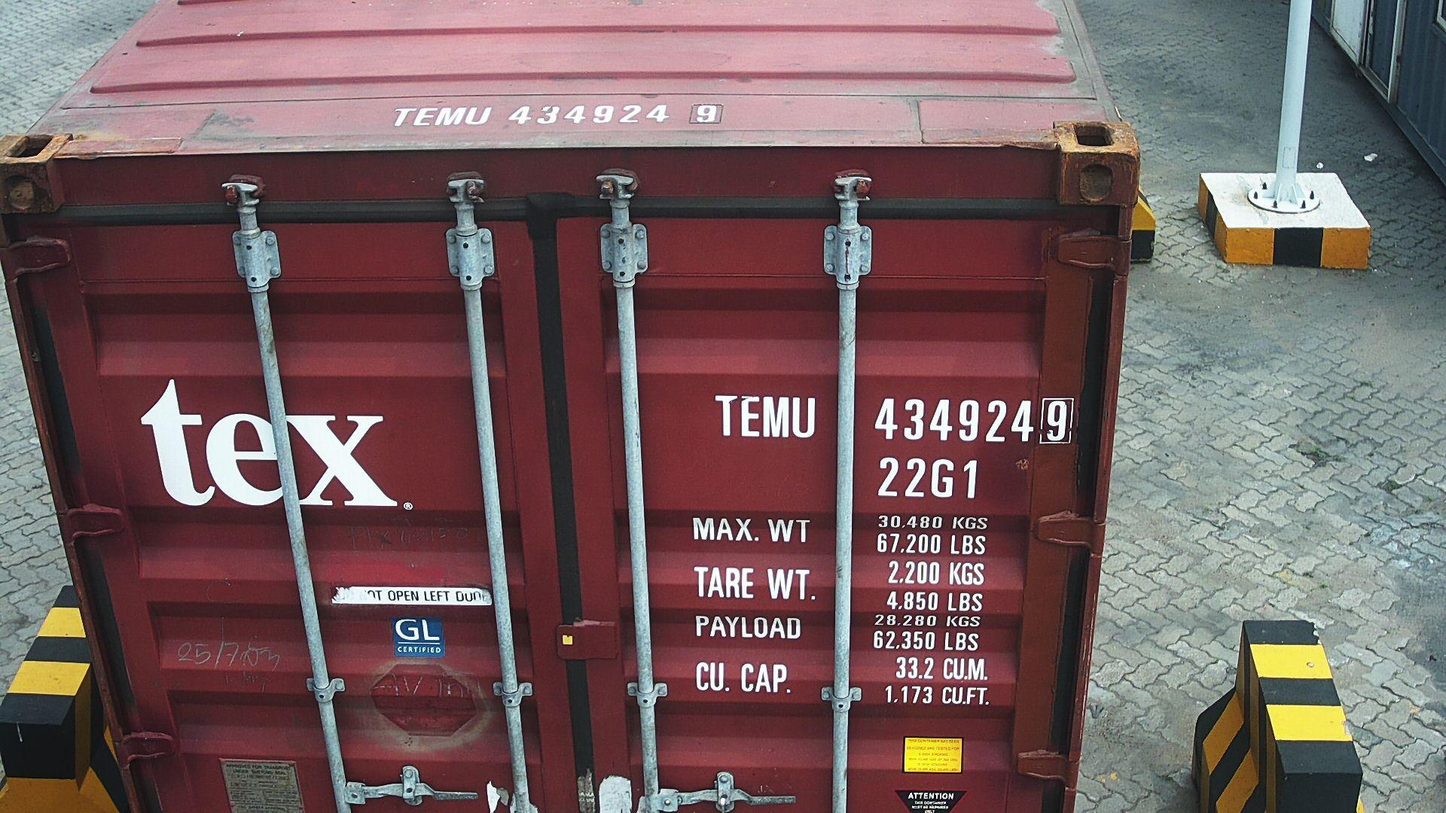container-numbers: (709, 391, 1079, 446), (386, 101, 731, 129), (874, 455, 982, 502)
